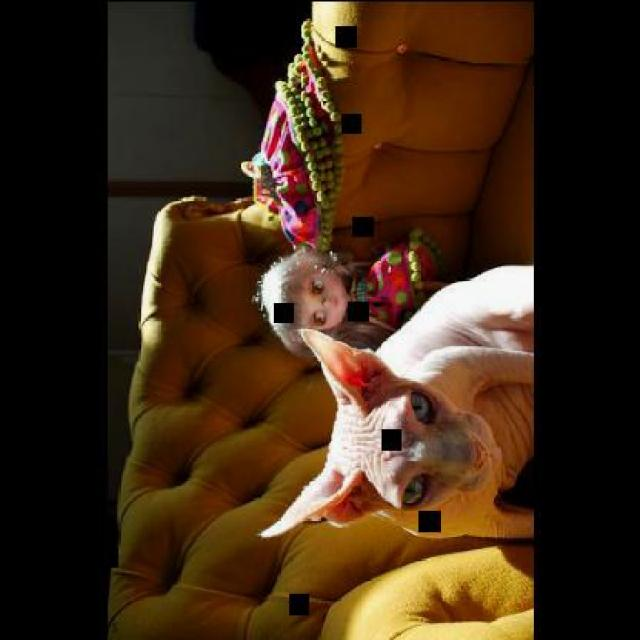unauthorized: (255, 320, 534, 542)
